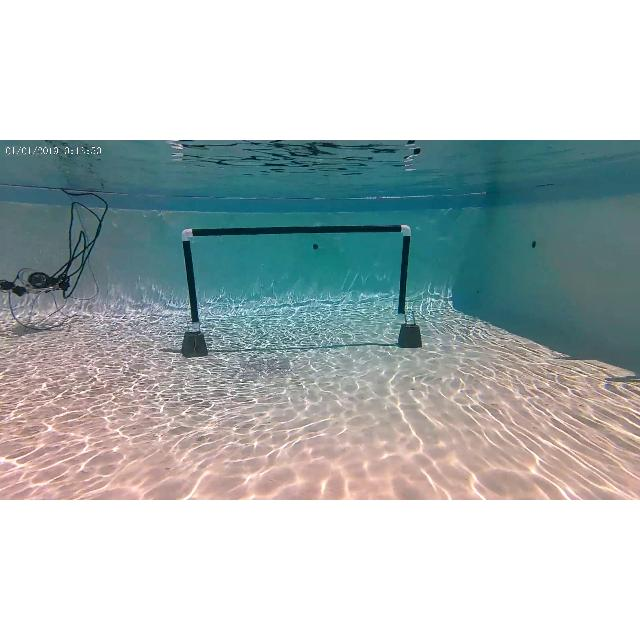prequal gate: (184, 225, 410, 328)
prequal gate leg l: (177, 226, 205, 334)
prequal gate leg r: (394, 222, 416, 328)
